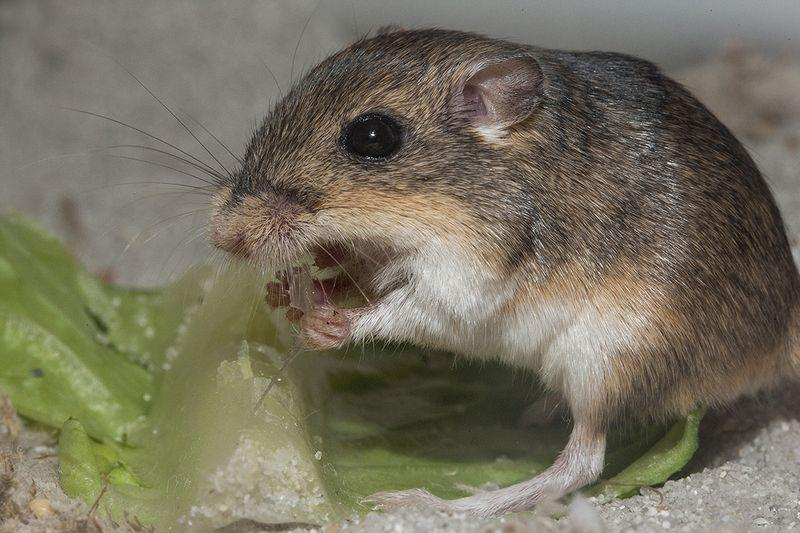rat: (207, 28, 800, 514)
